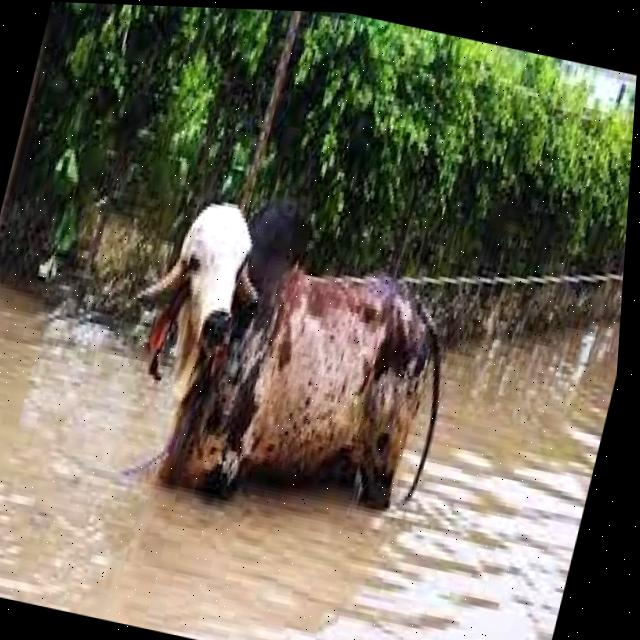cow: (106, 167, 496, 548)
